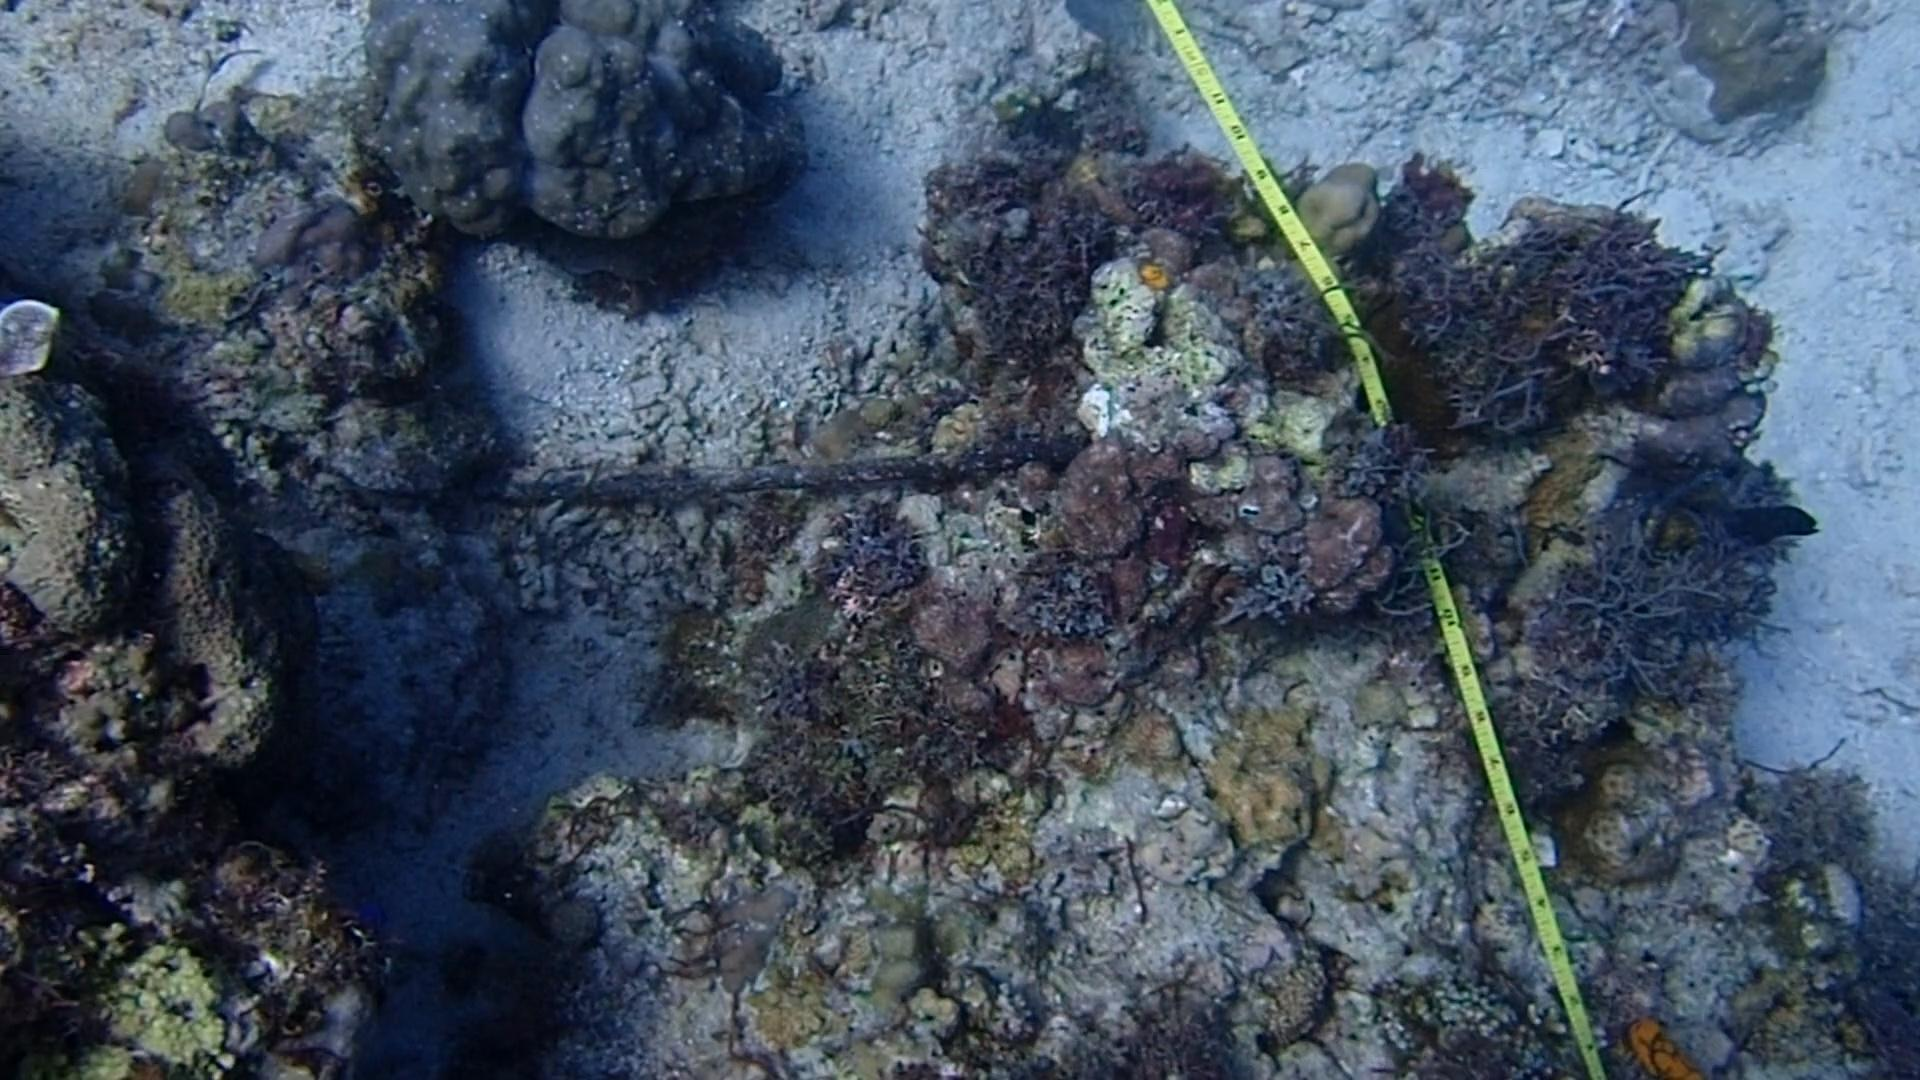Dark Fish: (1705, 480, 1837, 580)
